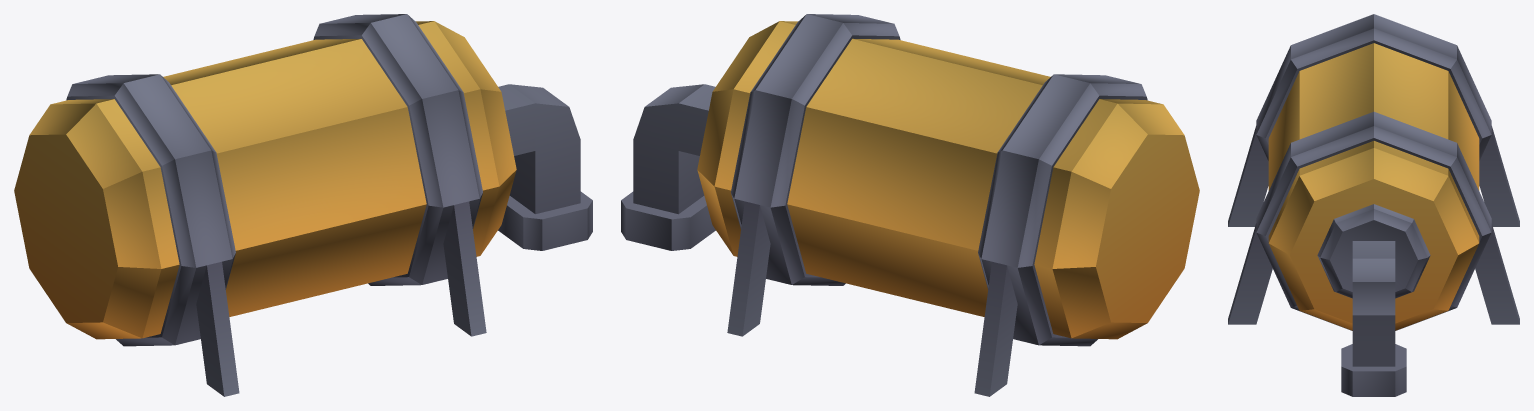
File: tank.fbx
The picture shows the model from 3 angles, left to right: view 1: azimuth 30°, elevation 25°; view 2: azimuth 150°, elevation 25°; view 3: azimuth 270°, elevation 25°; orthographic projection. The views are drawn at different scales.
Parts seen in each view (by area): view 1: detail-tank; view 2: detail-tank; view 3: detail-tank.
Part boxes in pixels (x1=…): detail-tank: x1=14, y1=14, x2=592, y2=396; detail-tank: x1=621, y1=14, x2=1199, y2=396; detail-tank: x1=1228, y1=14, x2=1519, y2=396.
Size of the model in its own units: 1 by 0.4897 by 0.6077.
